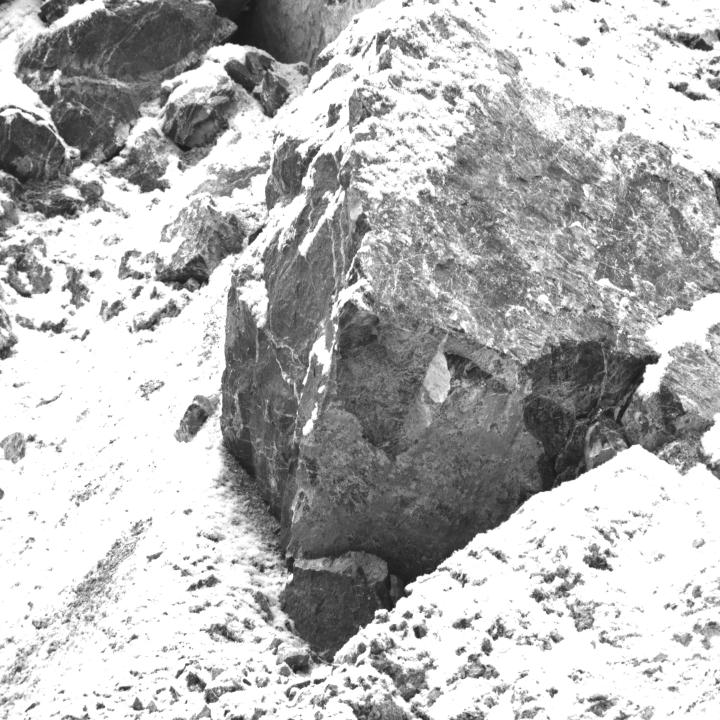stone: (219, 0, 720, 660), (141, 193, 244, 282), (158, 61, 234, 148), (0, 109, 67, 183)
